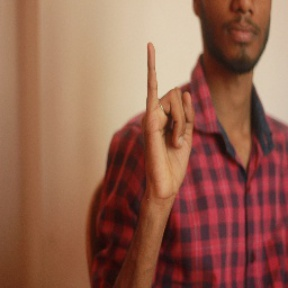I: (138, 42, 198, 199)
